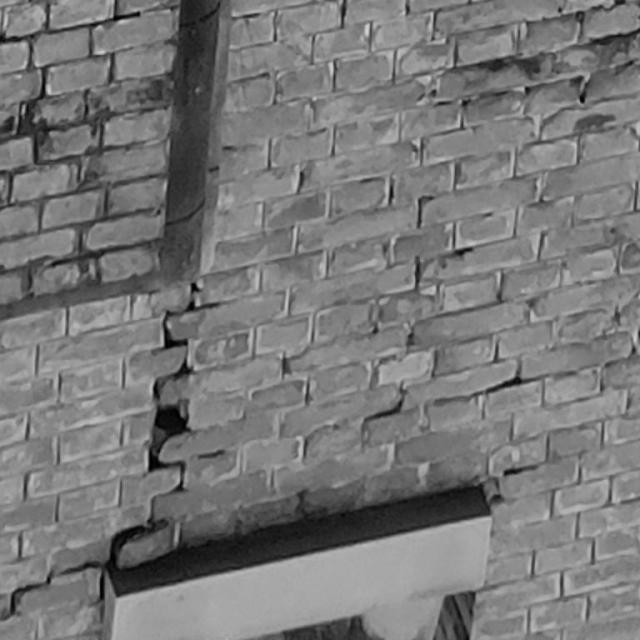crack: (1, 282, 224, 621)
